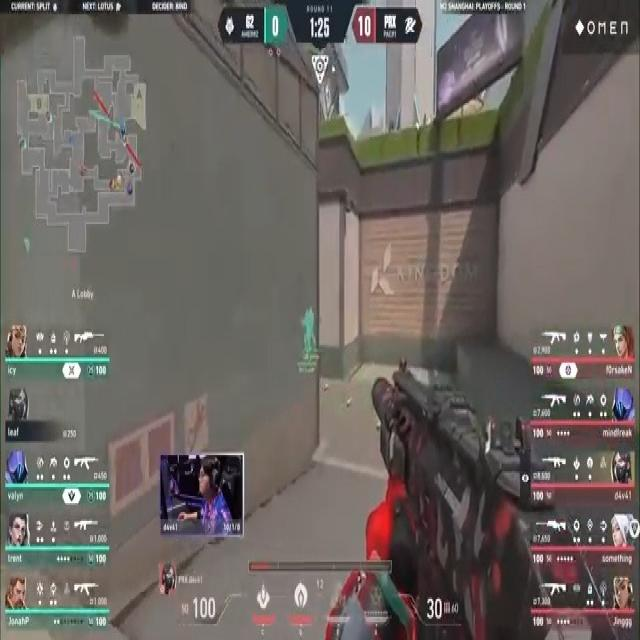ally behind wall: (299, 307, 317, 367)
